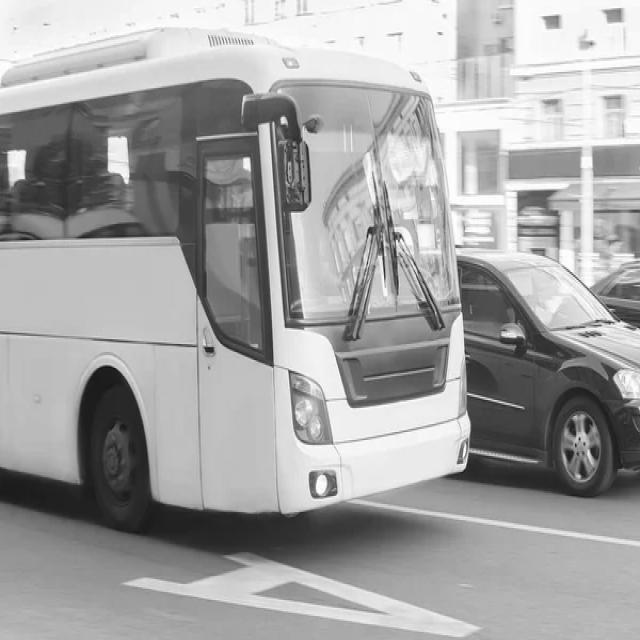Bus: (0, 28, 471, 530)
Car: (460, 251, 640, 497)
